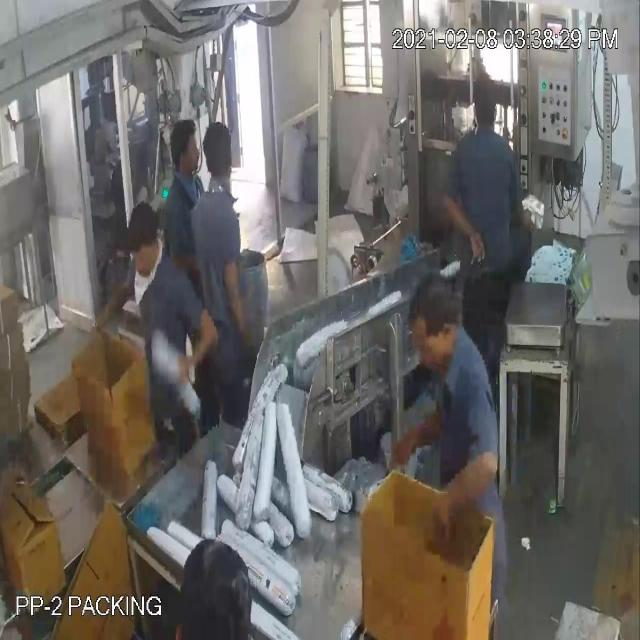No_Gloves: (45, 74, 468, 496)
